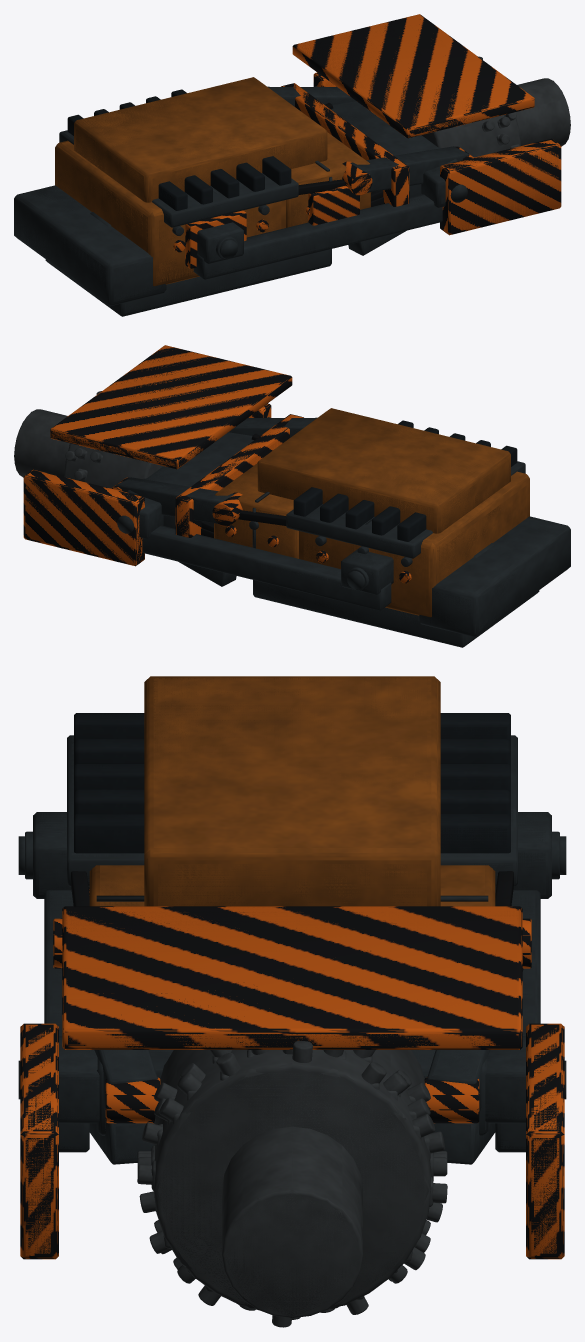
The model's file is place_mining_drone.glb.
3 renders of one model, top to bottom at view 1: azimuth 30°, elevation 25°; view 2: azimuth 150°, elevation 25°; view 3: azimuth 270°, elevation 25°, orthographic. The views are drawn at different scales.
Visible parts, largest first — view 1: LOD2_Drone_Material_Hull, LOD1_Drone_Material_Mechanical, LOD1_Drone_Material_Safety, LOD0_Drone_Material_Safety, LOD2_Drone_Material_Mechanical, LOD2_Drone_Material_Safety, LOD0_Drone_Material_Hull, LOD0_Drone_Material_Mechanical, LOD1_Drone_Material_Hull, LOD0_Drone_Material_Tool, LOD0_Drone_Material_Radiator, LOD1_Drone_Material_Radiator (+3 smaller); view 2: LOD2_Drone_Material_Hull, LOD0_Drone_Material_Safety, LOD0_Drone_Material_Mechanical, LOD2_Drone_Material_Mechanical, LOD1_Drone_Material_Safety, LOD0_Drone_Material_Hull, LOD1_Drone_Material_Mechanical, LOD2_Drone_Material_Safety, LOD1_Drone_Material_Hull, LOD0_Drone_Material_Tool, LOD0_Drone_Material_Radiator, LOD1_Drone_Material_Radiator (+2 smaller); view 3: LOD0_Drone_Material_Safety, LOD0_Drone_Material_Tool, LOD1_Drone_Material_Hull, LOD0_Drone_Material_Hull, LOD1_Drone_Material_Safety, LOD1_Drone_Material_Tool, LOD2_Drone_Material_Mechanical, LOD1_Drone_Material_Mechanical, LOD2_Drone_Material_Safety, LOD0_Drone_Material_Radiator, LOD0_Drone_Material_Mechanical, LOD2_Drone_Material_Hull (+4 smaller).
Part boxes in pixels (x1,y1,x2,y2): LOD2_Drone_Material_Hull: (55, 77, 370, 286); LOD1_Drone_Material_Mechanical: (15, 86, 468, 315); LOD1_Drone_Material_Safety: (173, 14, 559, 268); LOD0_Drone_Material_Safety: (173, 15, 558, 265); LOD2_Drone_Material_Mechanical: (14, 86, 468, 316); LOD2_Drone_Material_Safety: (281, 14, 561, 235); LOD0_Drone_Material_Hull: (57, 99, 365, 279); LOD0_Drone_Material_Mechanical: (43, 86, 467, 307); LOD1_Drone_Material_Hull: (56, 84, 370, 284); LOD0_Drone_Material_Tool: (421, 56, 570, 157); LOD0_Drone_Material_Radiator: (75, 90, 289, 210); LOD1_Drone_Material_Radiator: (68, 90, 290, 210); LOD2_Drone_Material_Hull: (214, 408, 529, 617); LOD0_Drone_Material_Safety: (26, 346, 411, 583); LOD0_Drone_Material_Mechanical: (117, 417, 560, 642); LOD2_Drone_Material_Mechanical: (116, 417, 570, 647); LOD1_Drone_Material_Safety: (25, 345, 411, 582); LOD0_Drone_Material_Hull: (218, 424, 527, 610); LOD1_Drone_Material_Mechanical: (116, 417, 568, 646); LOD2_Drone_Material_Safety: (23, 345, 303, 566); LOD1_Drone_Material_Hull: (214, 415, 527, 615); LOD0_Drone_Material_Tool: (14, 391, 149, 488); LOD0_Drone_Material_Radiator: (296, 421, 510, 540); LOD1_Drone_Material_Radiator: (294, 421, 516, 541); LOD0_Drone_Material_Safety: (28, 887, 556, 1253); LOD0_Drone_Material_Tool: (137, 1040, 447, 1327); LOD1_Drone_Material_Hull: (92, 678, 492, 906); LOD0_Drone_Material_Hull: (105, 679, 479, 906); LOD1_Drone_Material_Safety: (21, 889, 563, 1258); LOD1_Drone_Material_Tool: (137, 1049, 447, 1319); LOD2_Drone_Material_Mechanical: (33, 735, 551, 1164); LOD1_Drone_Material_Mechanical: (34, 736, 550, 1163); LOD2_Drone_Material_Safety: (20, 906, 564, 1259); LOD0_Drone_Material_Radiator: (74, 714, 510, 853); LOD0_Drone_Material_Mechanical: (18, 814, 566, 1159); LOD2_Drone_Material_Hull: (89, 676, 495, 906).
Bounding box in the file's own units: 5 × 1.41 × 2.41.
7 materials, 7 textured.
